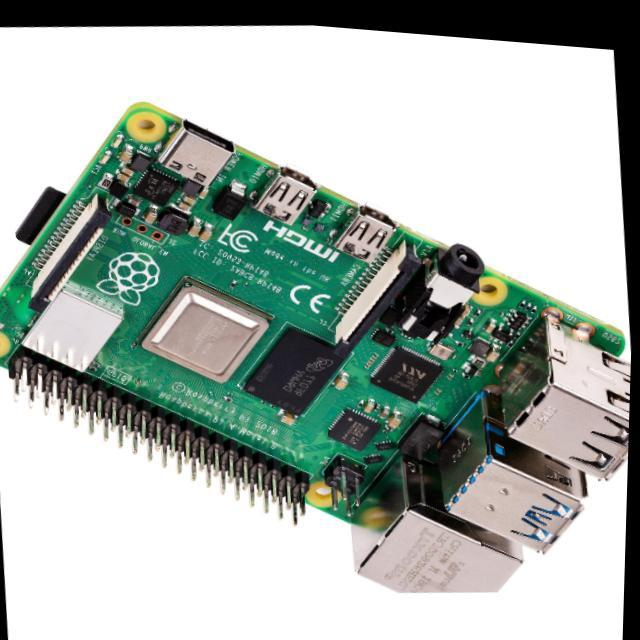Raspberry-Pi-4-B: (1, 103, 630, 593)
